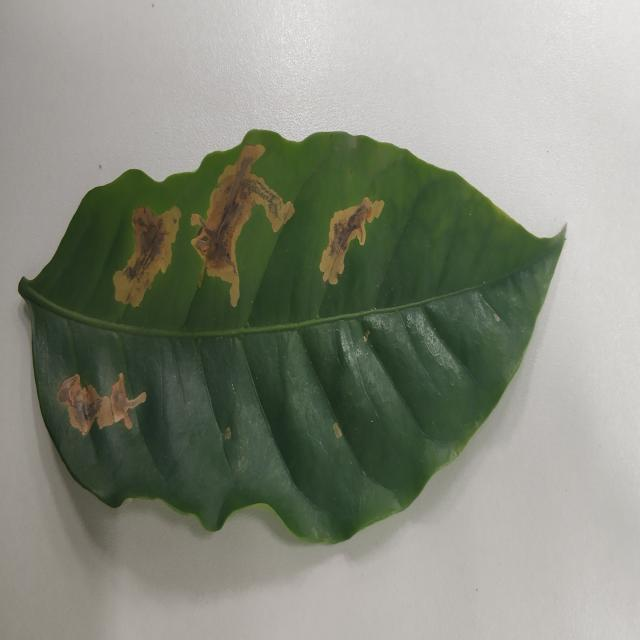Plaga-Minador: (18, 130, 566, 548)
